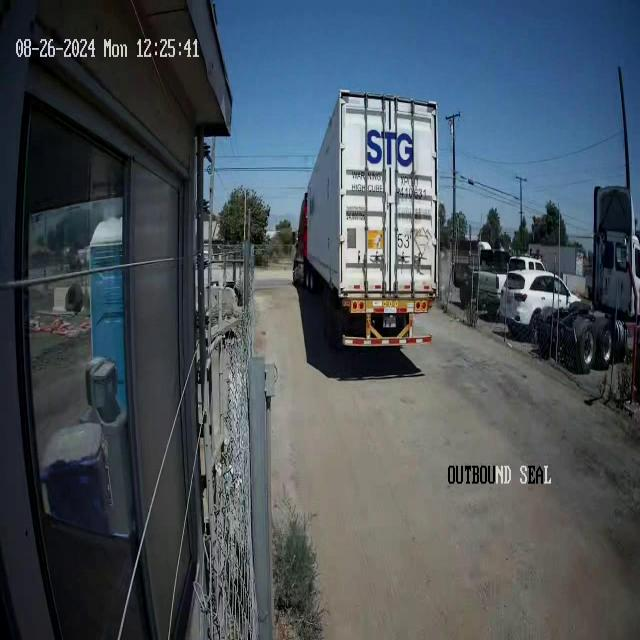TRUCK_CONTAINER: (291, 88, 439, 350)
